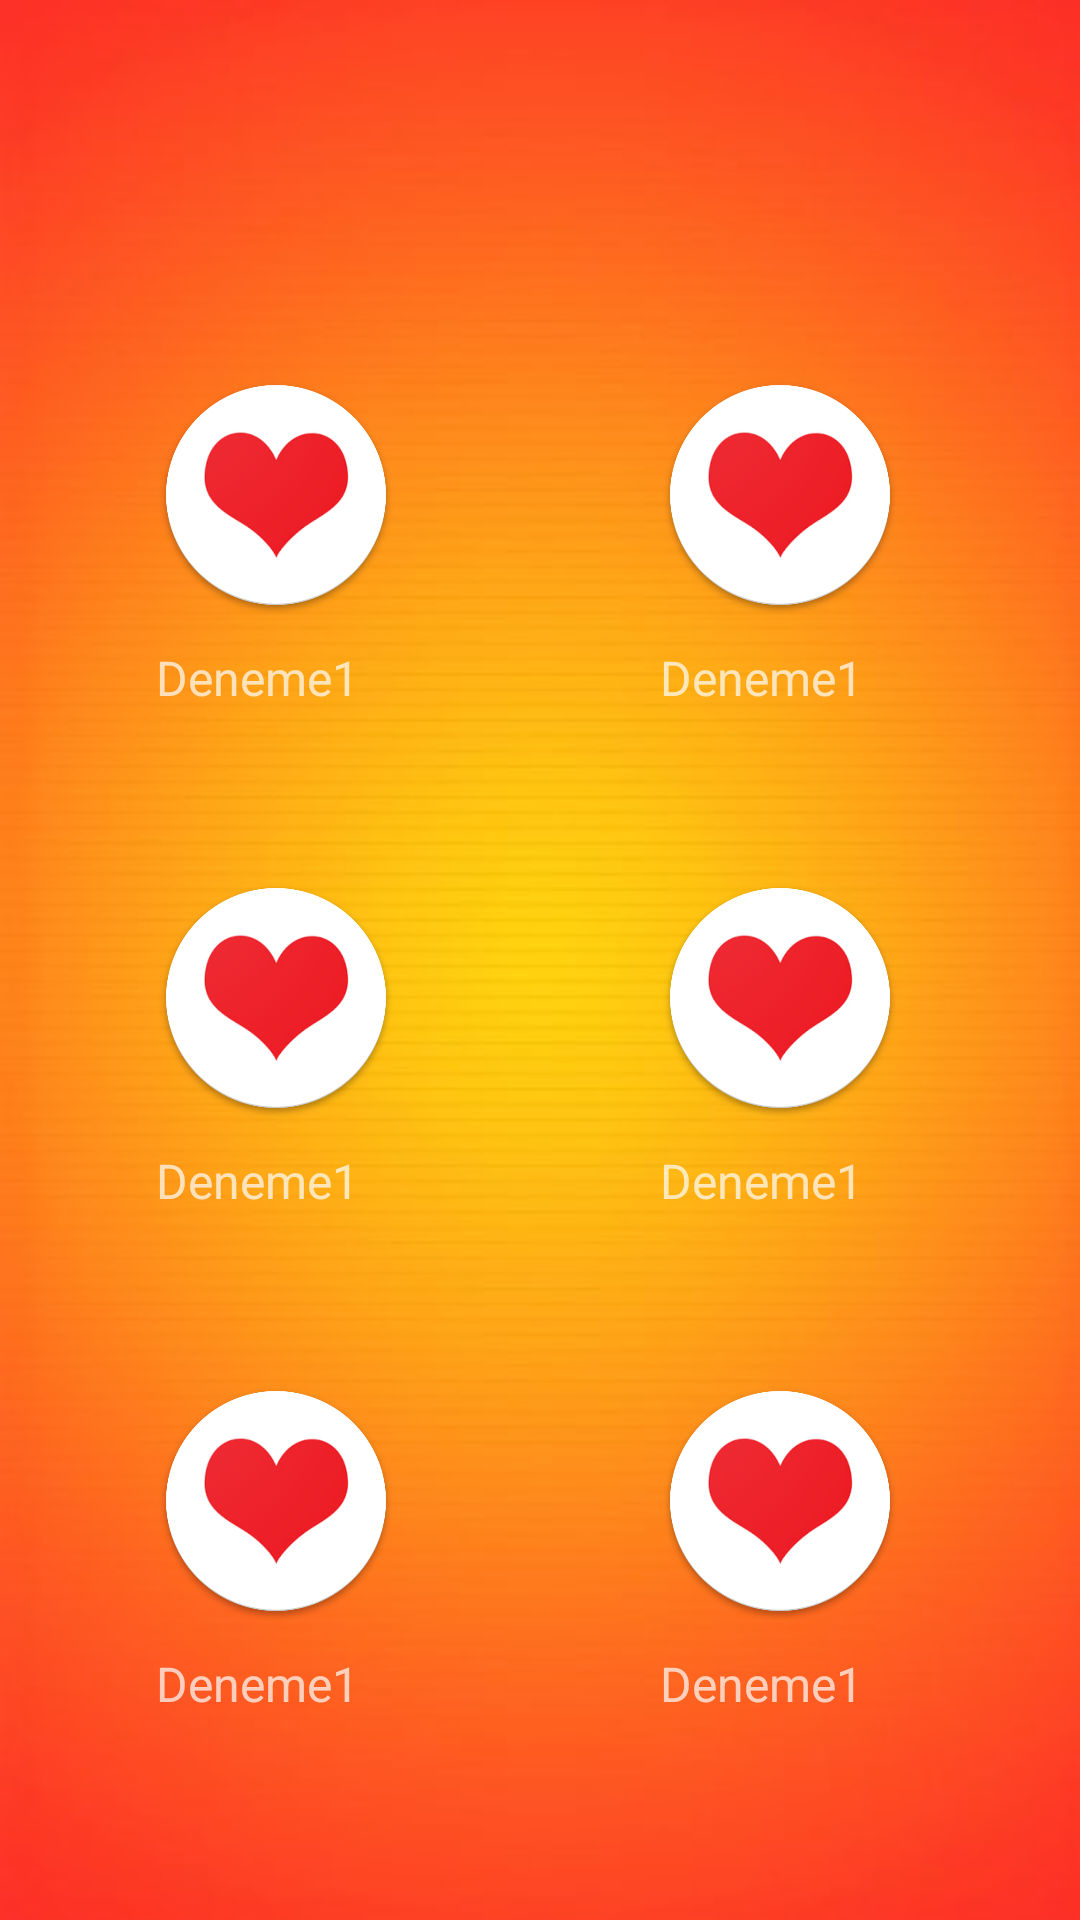

Named icons in this screenshot (1080w x 1920h) and their centers, [x,y]:
favorites: [280,500], [776,500], [280,998], [776,998], [280,1498], [780,1498]
